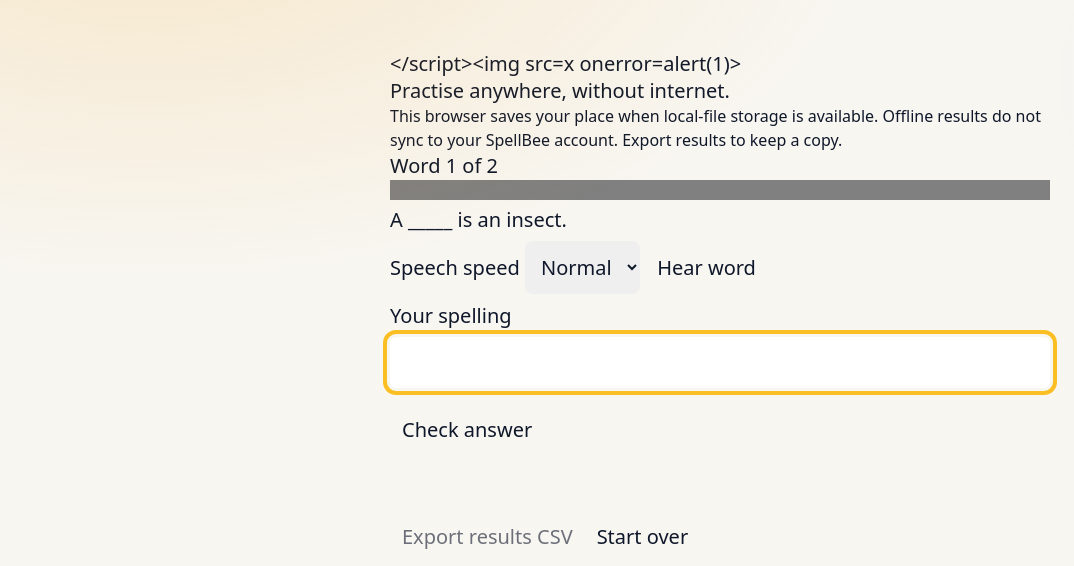
Test: offline packs are isolated and hostile text is displayed as text
Later steps or results of the test are not shown.
Type "bee" into the field with id "answer" at (720, 362), box [390, 337, 1050, 388]
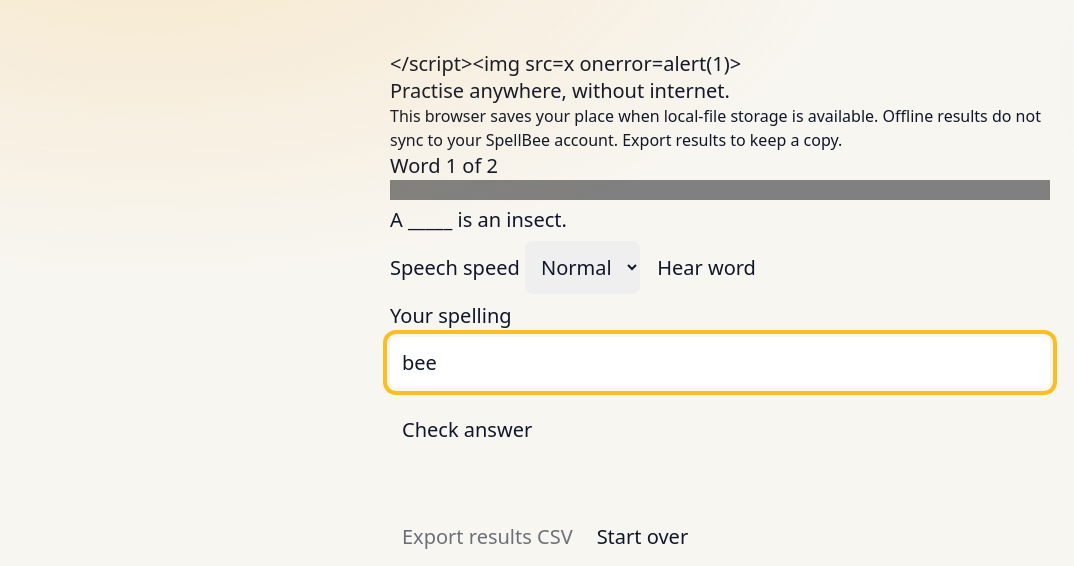
Submit the form with id "form", box [390, 302, 1050, 463]
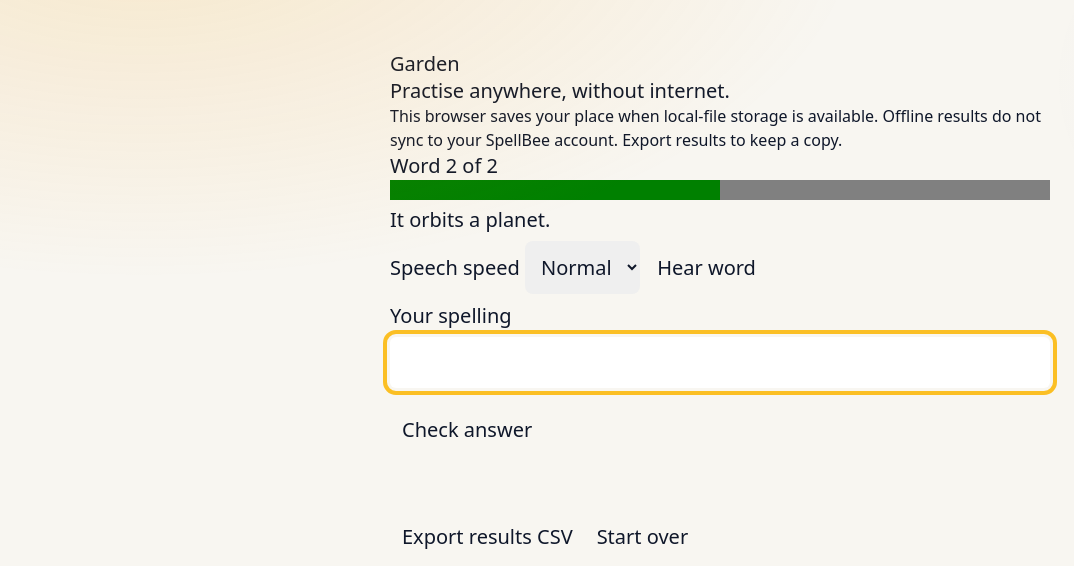
Expected: the message with id "count" reads "Word 2 of 2", [390, 152, 498, 179]
